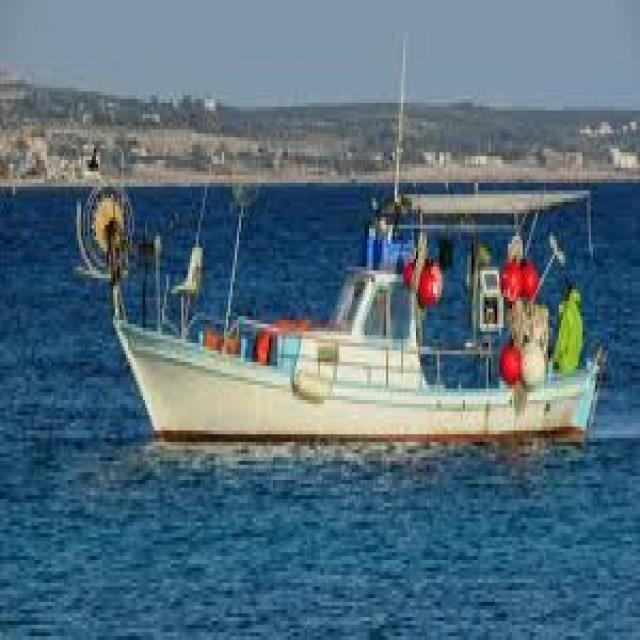Ship: (91, 89, 627, 474)
